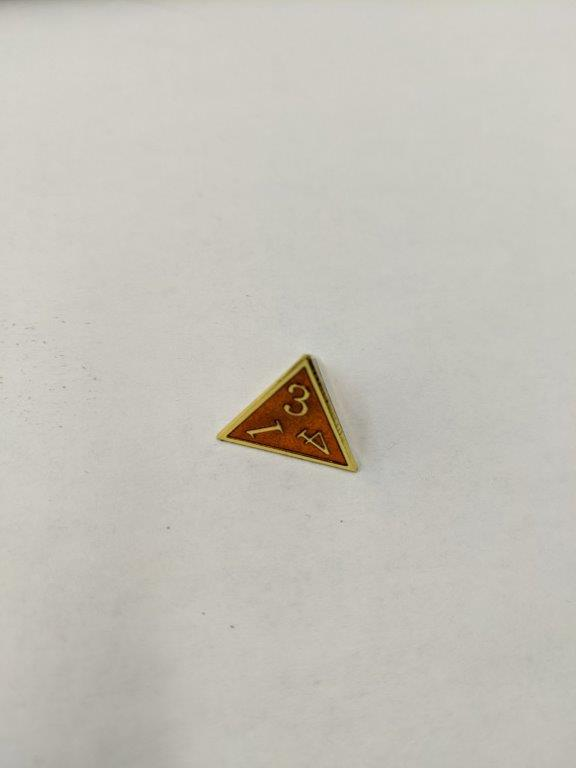d4-3: (207, 348, 360, 481)
